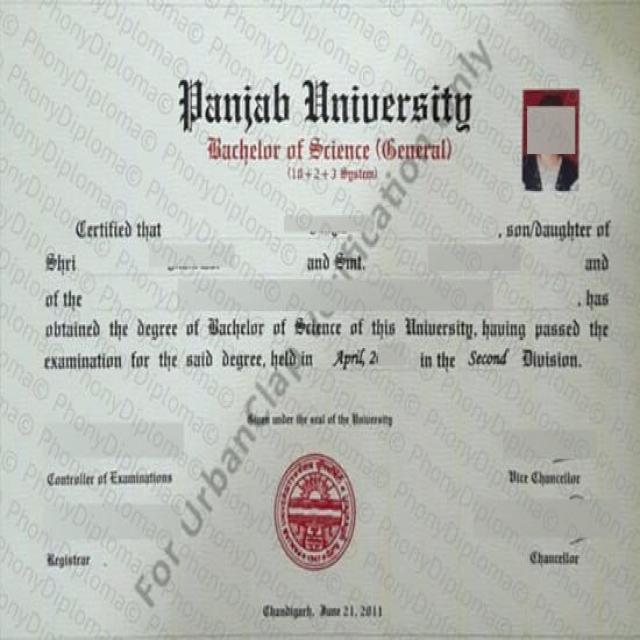degree: (206, 308, 346, 342)
stamp: (272, 452, 362, 573)
